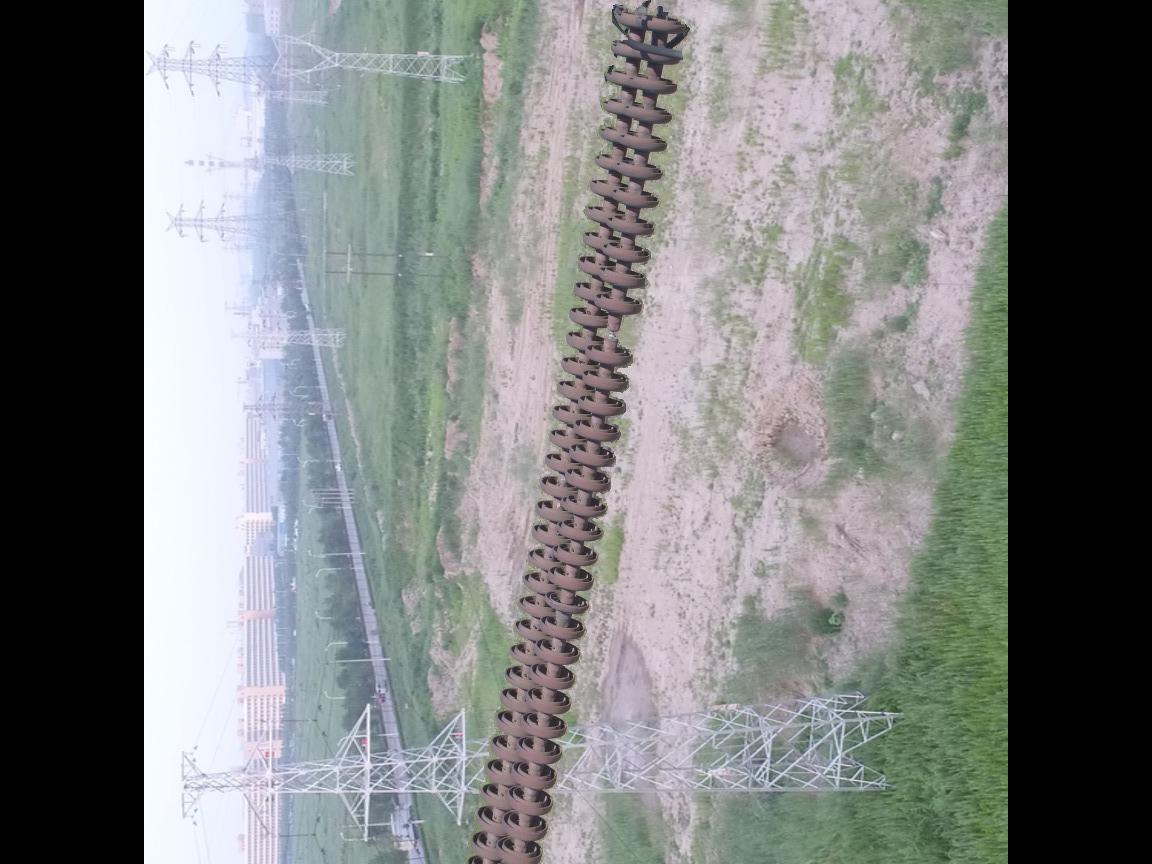insulator: (456, 4, 690, 864)
insulator_stringdrop: (583, 290, 646, 372)
